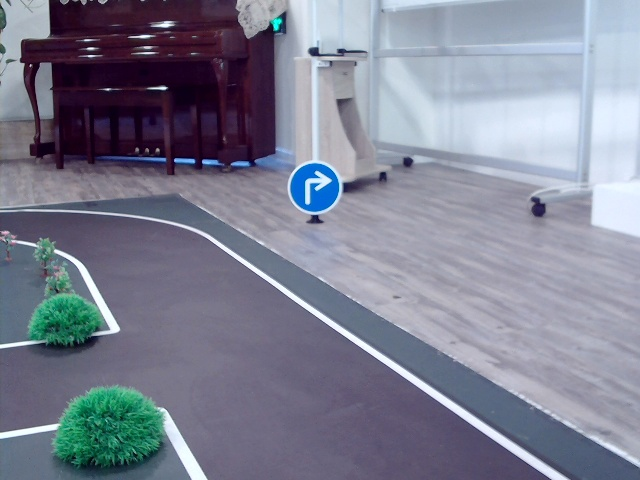turn_right: (295, 170, 330, 202)
